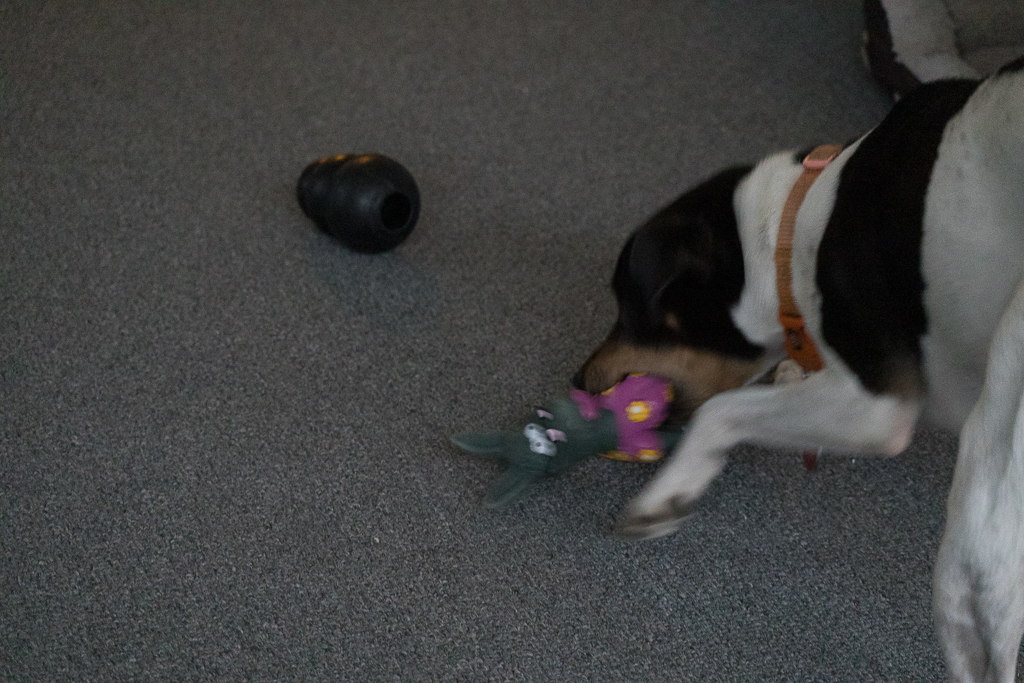Dog: (551, 44, 1024, 683)
Humanoid: (431, 370, 704, 524)
